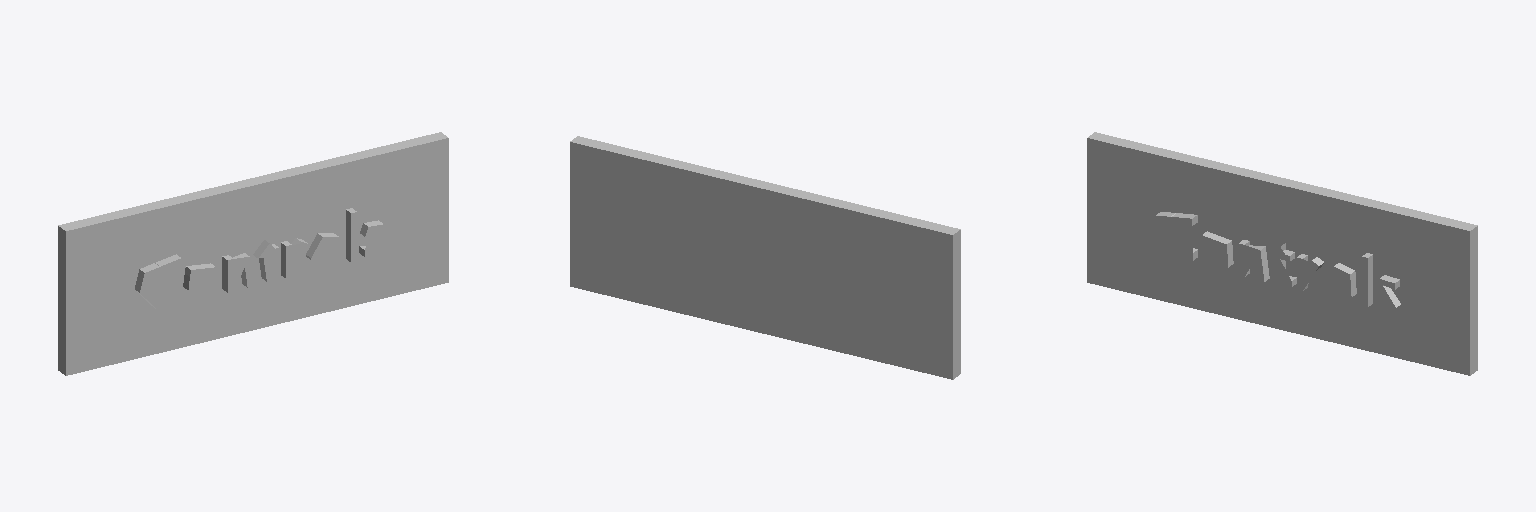
Rendered from Controls.obj.
3 renders of one model, left to right at view 1: azimuth 30°, elevation 25°; view 2: azimuth 150°, elevation 25°; view 3: azimuth 330°, elevation 25°, orthographic.
Visible parts, largest first — view 1: Mesh; view 2: Mesh; view 3: Mesh.
Part boxes in pixels (x1,y1,x2,y2): Mesh: (58,132,448,375); Mesh: (570,136,960,379); Mesh: (1087,132,1477,375).
Size of the model in its own units: 5.54 by 2 by 0.335.